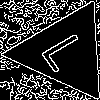L: (39, 26, 99, 74)
